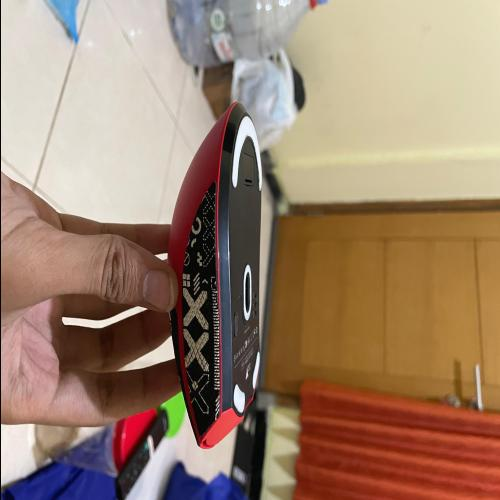mouse: (154, 93, 272, 460)
